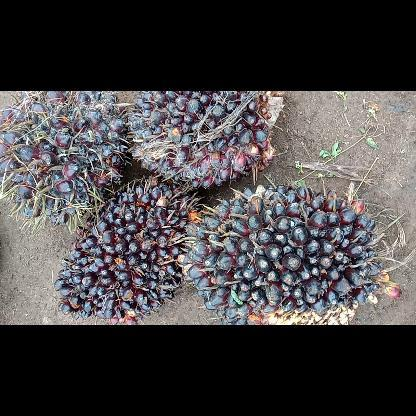TBS mentah: (178, 180, 406, 324), (51, 174, 203, 324), (0, 90, 131, 228), (128, 91, 288, 193)
